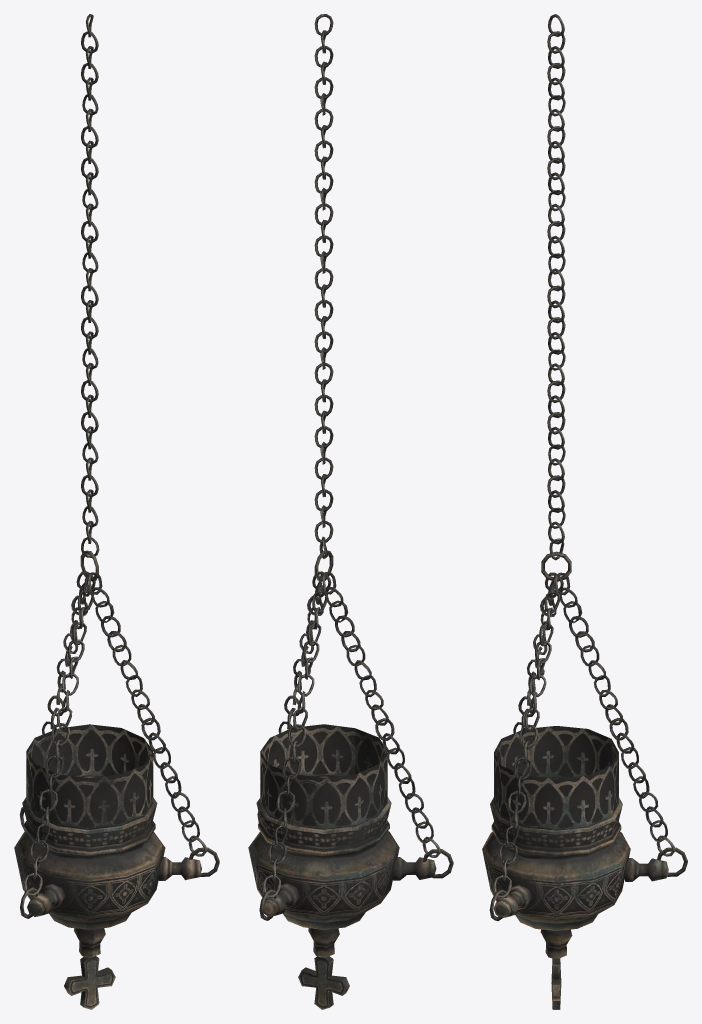
3 renders of one model, left to right at view 1: azimuth 30°, elevation 25°; view 2: azimuth 150°, elevation 25°; view 3: azimuth 270°, elevation 25°, orthographic.
Parts seen in each view (by area): view 1: SM_DungeonCenser_LOD0; view 2: SM_DungeonCenser_LOD0; view 3: SM_DungeonCenser_LOD0.
Part boxes in pixels (bbox=[...]): SM_DungeonCenser_LOD0: bbox=[14, 14, 219, 1009]; SM_DungeonCenser_LOD0: bbox=[248, 14, 453, 1009]; SM_DungeonCenser_LOD0: bbox=[482, 14, 687, 1009].
Size of the model in its own units: 3.13 by 15 by 2.81.
1 material, 1 textured.
